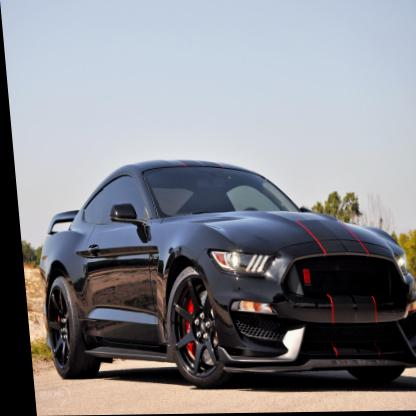Car: (25, 157, 415, 391)
